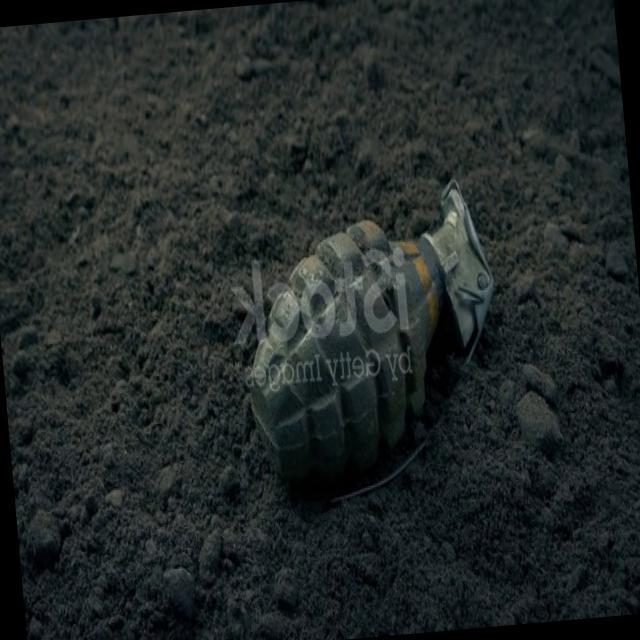grenade: (234, 178, 511, 503)
